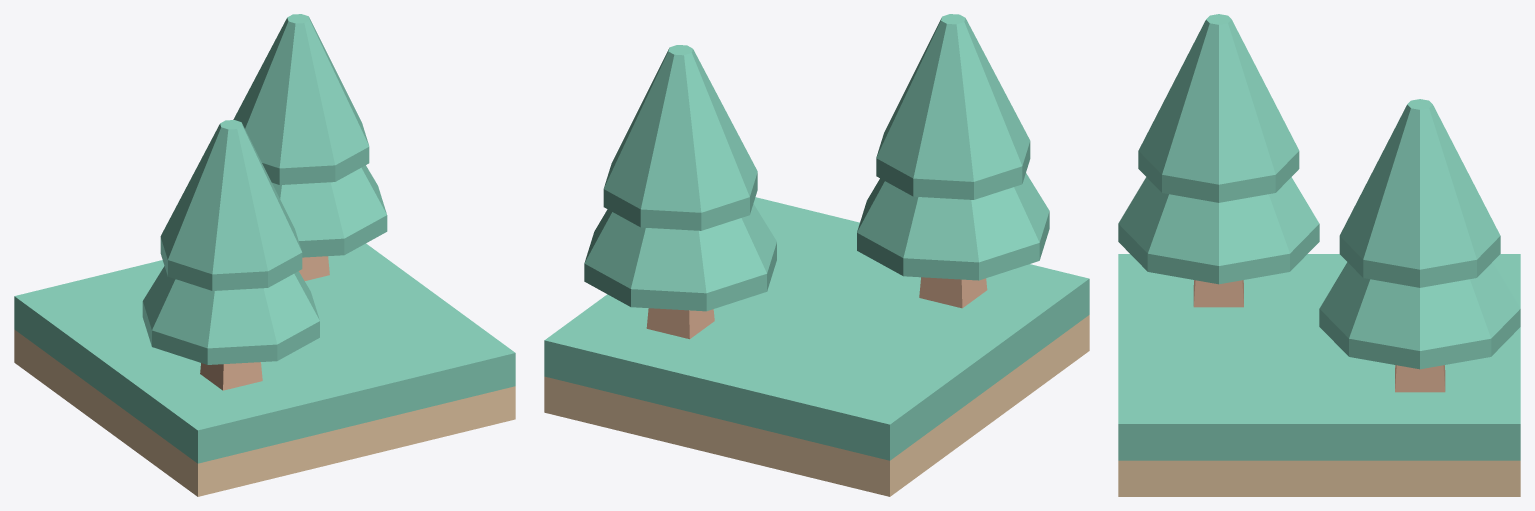
File: tile_treeDouble.glb
3 renders of one model, left to right at view 1: azimuth 30°, elevation 25°; view 2: azimuth 150°, elevation 25°; view 3: azimuth 270°, elevation 25°, orthographic. The views are drawn at different scales.
Parts seen in each view (by area): view 1: tile_treeDouble, tree (×2); view 2: tile_treeDouble, tree (×2); view 3: tile_treeDouble, tree (×2).
Boxes of the visible parts, x1,y1,x2,y2 form: tile_treeDouble: [14, 243, 515, 496]; tree (×2): [142, 14, 387, 390]; tile_treeDouble: [544, 197, 1089, 496]; tree (×2): [584, 14, 1049, 339]; tile_treeDouble: [1118, 254, 1520, 496]; tree (×2): [1118, 14, 1520, 392].
Bounding box in the file's own units: 1 × 0.96 × 1.
